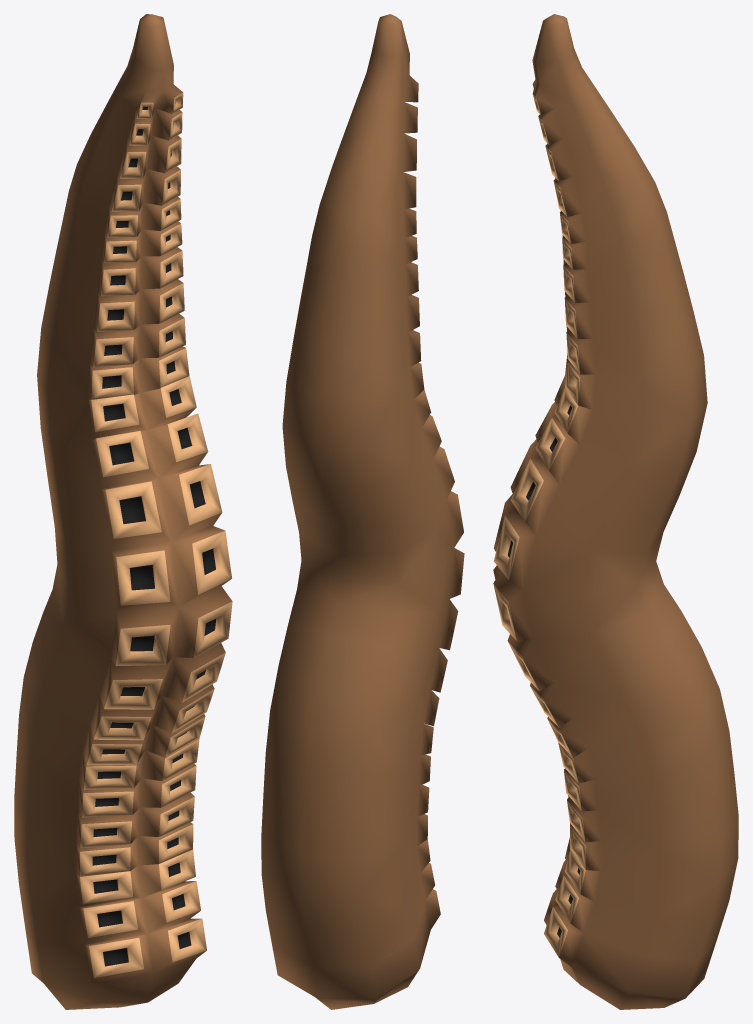
File: Onetacle (Boneless).fbx
3 views of the same model, side by side, from view 1: azimuth 30°, elevation 25°; view 2: azimuth 150°, elevation 25°; view 3: azimuth 270°, elevation 25° (orthographic). The views are drawn at different scales.
Visible parts, largest first — view 1: Onetacle - Haskipend; view 2: Onetacle - Haskipend; view 3: Onetacle - Haskipend.
Part boxes in pixels (<box>): Onetacle - Haskipend: <box>14,14,232,1009</box>; Onetacle - Haskipend: <box>261,14,464,1009</box>; Onetacle - Haskipend: <box>493,14,738,1009</box>.
Bounding box in the file's own units: 23.48 × 162 × 36.62.
